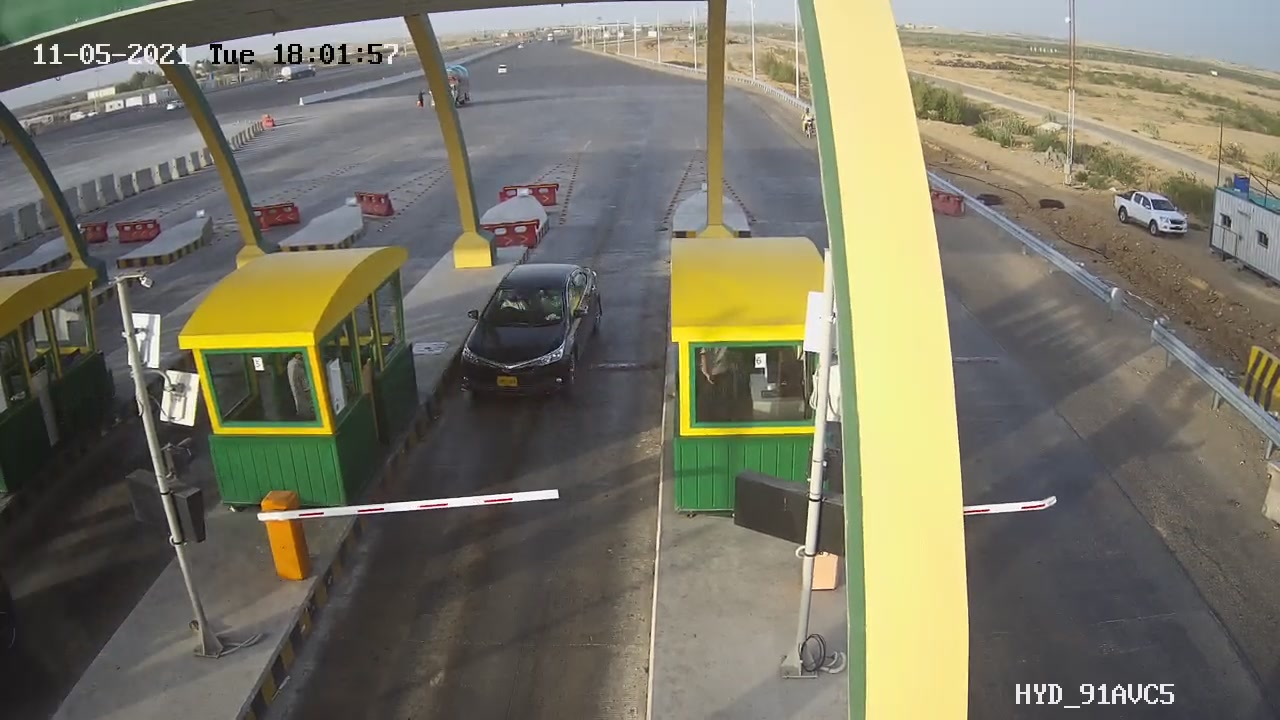F1: (447, 248, 613, 417)
